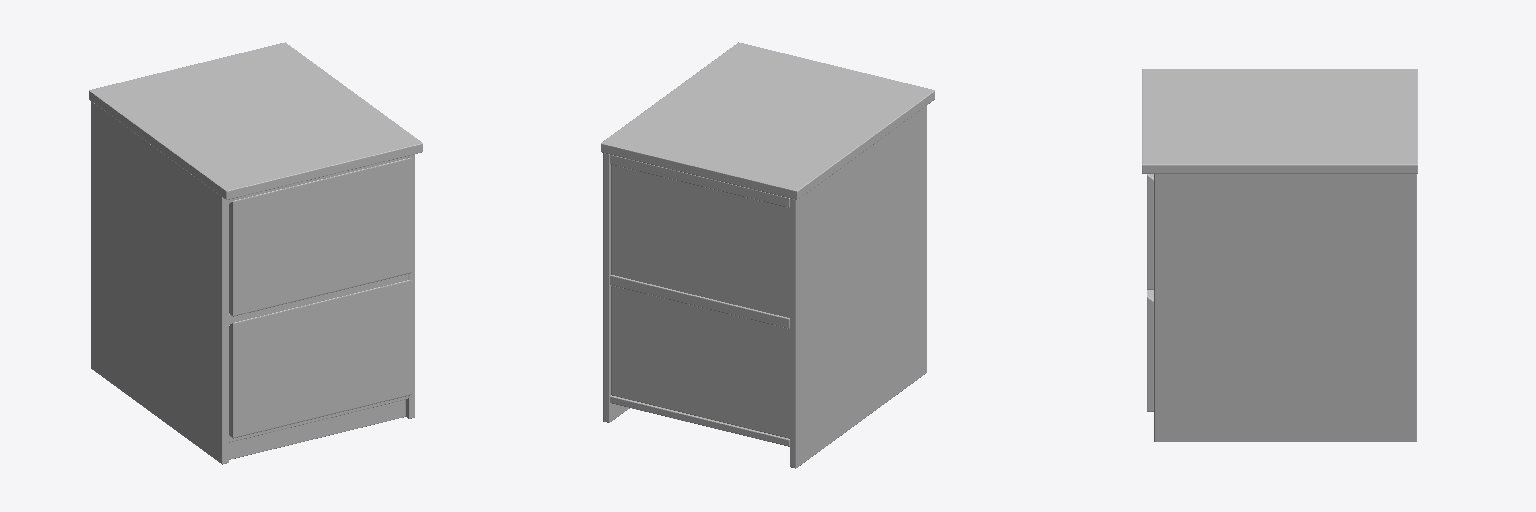
The model's file is Locker 3.obj.
The picture shows the model from 3 angles: view 1: azimuth 30°, elevation 25°; view 2: azimuth 150°, elevation 25°; view 3: azimuth 270°, elevation 25°; orthographic projection.
Parts seen in each view (by area): view 1: Box095, Box096, Box094; view 2: Box095; view 3: Box095, Box096, Box094.
Boxes of the visible parts, x1=… form: Box095: x1=89, y1=42, x2=422, y2=464; Box096: x1=229, y1=280, x2=411, y2=438; Box094: x1=229, y1=158, x2=411, y2=316; Box095: x1=601, y1=42, x2=934, y2=468; Box095: x1=1142, y1=69, x2=1417, y2=441; Box096: x1=1147, y1=290, x2=1153, y2=411; Box094: x1=1147, y1=174, x2=1153, y2=289.
Size of the model in its own units: 407 by 550 by 495.